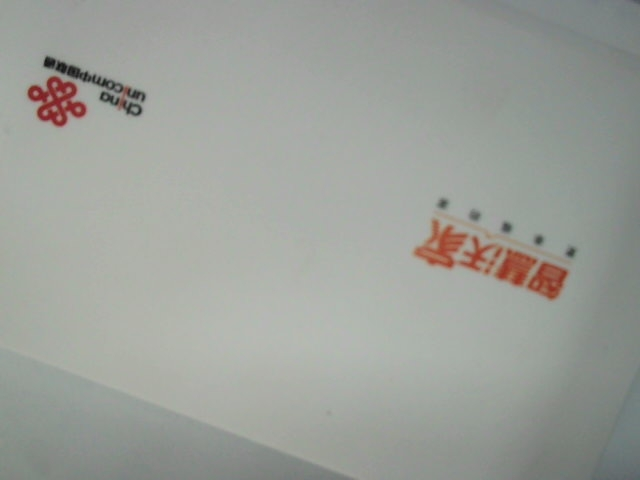ChinaUnicom: (15, 48, 158, 134)
